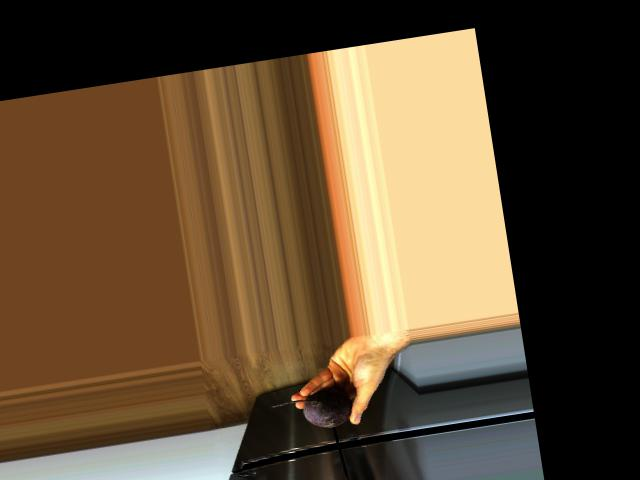beet: (268, 386, 354, 436)
